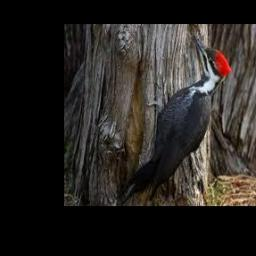Woodpecker: (121, 33, 233, 204)
